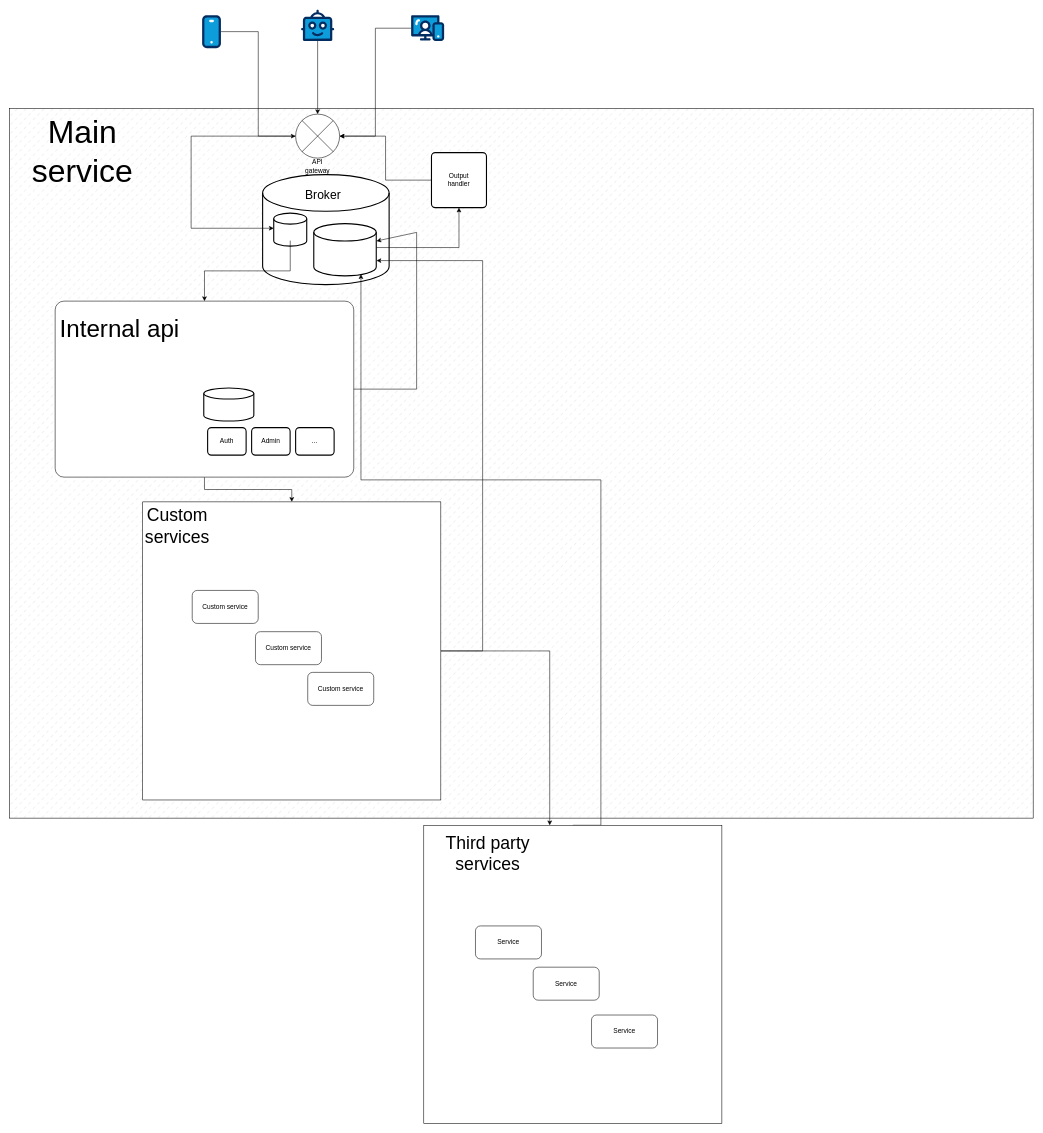
Image size: 1043x1133. Some labels were removed from this diagram. The shapes that lost their labels are listed below. From the top down, each one's centre as x and y in pixels, then its label:
pixel 290 229: Input queue
pixel 345 249: Output queue
pixel 228 404: Database
